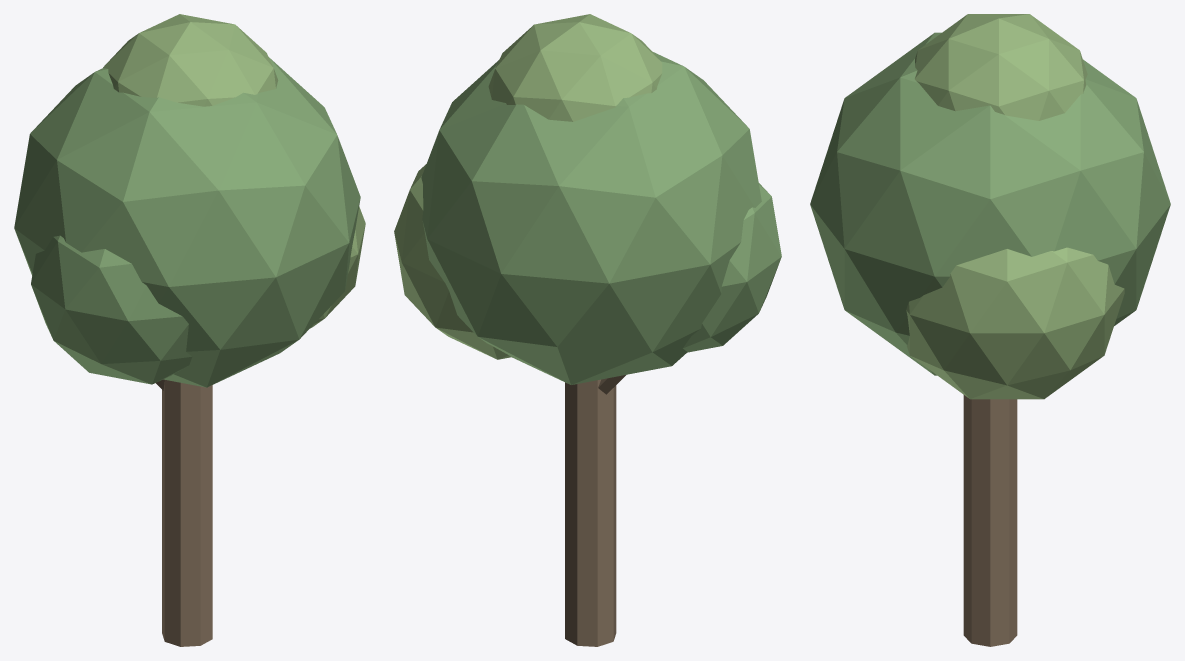
The model's file is tree-lod0.glb.
The picture shows the model from 3 angles, left to right: view 1: azimuth 30°, elevation 25°; view 2: azimuth 150°, elevation 25°; view 3: azimuth 270°, elevation 25°; orthographic projection.
Visible parts, largest first — view 1: canopy_core, canopy_back, trunk, canopy_top, canopy_side; view 2: canopy_core, trunk, canopy_top, canopy_back, canopy_side; view 3: canopy_core, canopy_side, canopy_top, trunk.
Boxes of the visible parts, x1,y1,x2,y2 form: canopy_core: [14, 57, 360, 387]; canopy_back: [31, 235, 192, 384]; trunk: [162, 380, 212, 646]; canopy_top: [103, 14, 278, 106]; canopy_side: [310, 206, 365, 328]; canopy_core: [421, 51, 761, 384]; trunk: [565, 379, 616, 646]; canopy_top: [488, 14, 662, 121]; canopy_back: [683, 183, 781, 352]; canopy_side: [394, 164, 511, 359]; canopy_core: [810, 32, 1170, 375]; canopy_side: [906, 247, 1124, 399]; canopy_top: [915, 14, 1087, 120]; trunk: [963, 395, 1017, 646].
Bounding box in the file's own units: 2.28 × 4.1 × 2.16.
